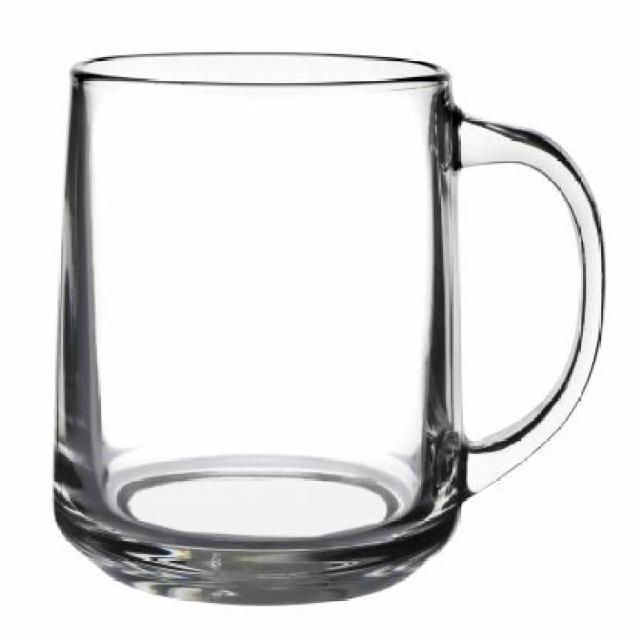cup: (49, 45, 608, 608)
